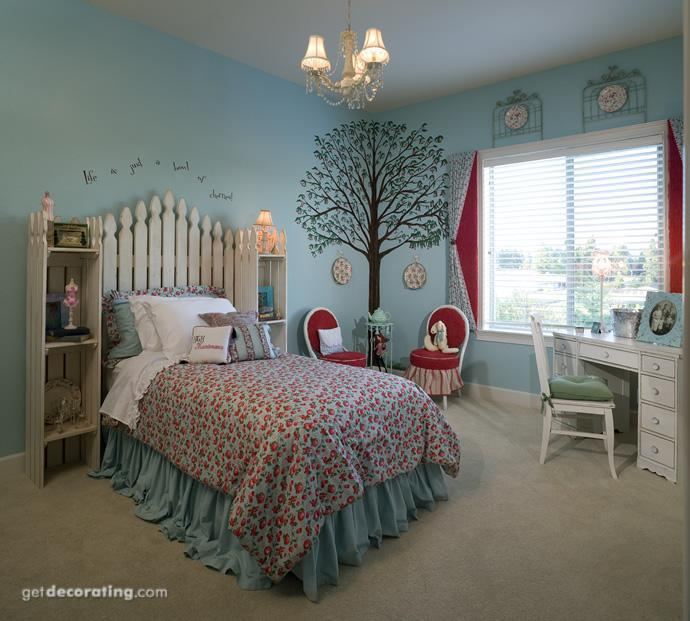Cama: (115, 293, 446, 569)
Ventana: (474, 159, 655, 345)
